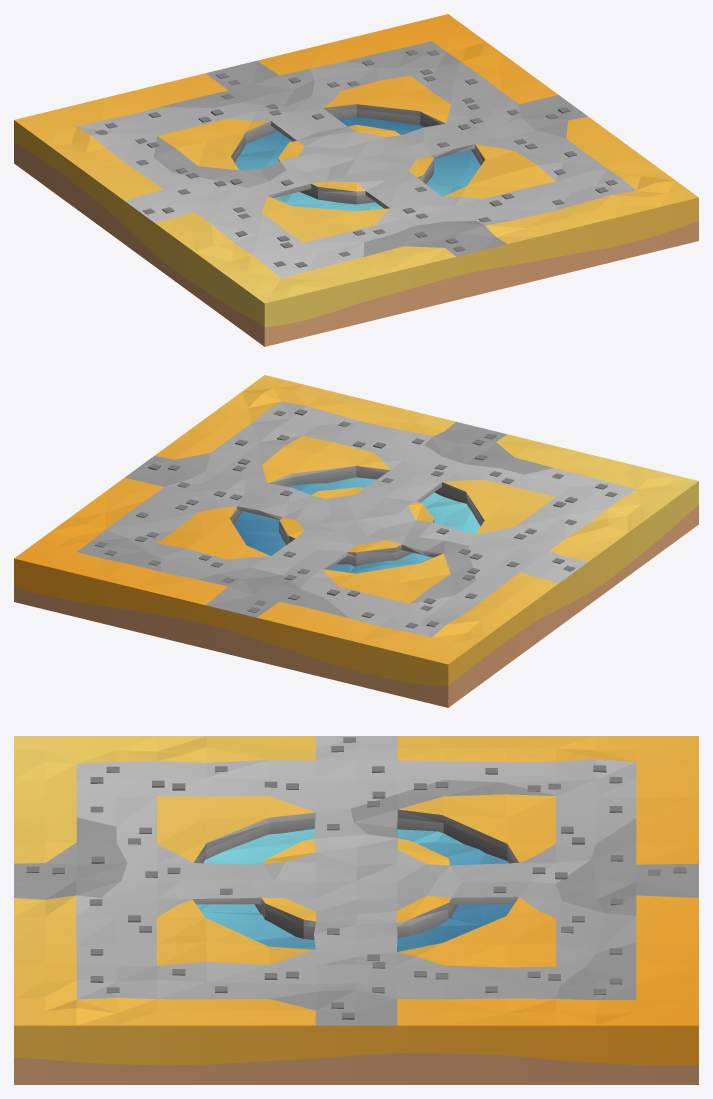
The model's file is land autumn park.fbx.
3 views of the same model, one above another, from view 1: azimuth 30°, elevation 25°; view 2: azimuth 150°, elevation 25°; view 3: azimuth 270°, elevation 25° (orthographic). The views are drawn at different scales.
Parts seen in each view (by area): view 1: land autumn park; view 2: land autumn park; view 3: land autumn park.
Part boxes in pixels (x1,y1,x2,y2): land autumn park: (14, 14, 698, 346); land autumn park: (14, 375, 698, 707); land autumn park: (14, 736, 698, 1084).
Size of the model in its own units: 4500 by 459 by 4500.
